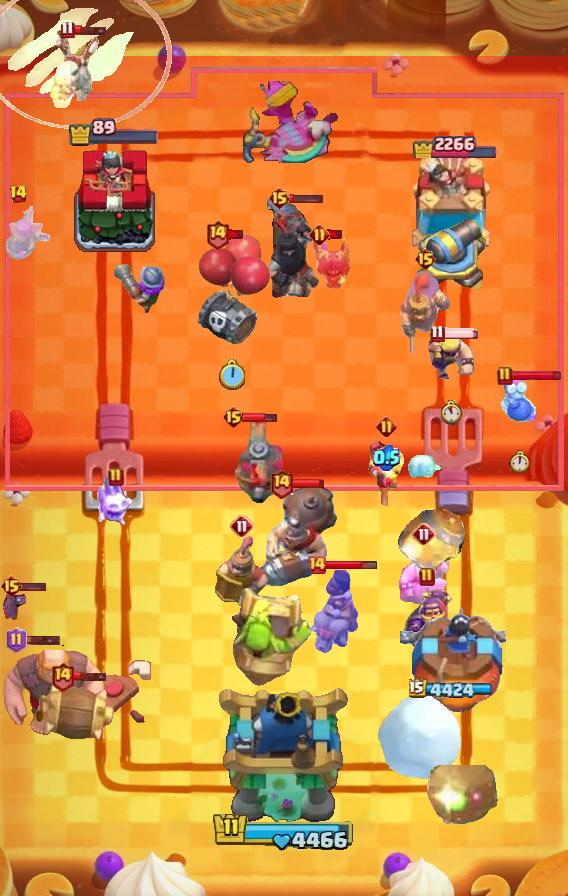arrows: (425, 329, 477, 379)
balloon: (0, 645, 108, 737)
barbarian-barrel: (2, 586, 30, 620)
bat: (401, 455, 443, 489)
bomb-tower: (113, 262, 169, 318)
bowler: (365, 440, 407, 510)
clock: (212, 811, 356, 853)
dark-prince: (217, 413, 283, 503)
dirt: (395, 498, 471, 578)
earthquake: (215, 534, 269, 606)
electro-spirit: (372, 445, 399, 472)
elite-barbarian: (303, 569, 359, 657)
elixir: (219, 360, 247, 392), (439, 399, 463, 424), (509, 450, 529, 474)
elixir-golem-big: (398, 267, 452, 377)
emote: (510, 370, 562, 383), (325, 560, 378, 571), (242, 412, 278, 425), (442, 327, 480, 339), (24, 634, 61, 646), (72, 24, 108, 36), (12, 580, 48, 592), (72, 670, 108, 682), (288, 192, 323, 203), (291, 479, 325, 490), (227, 229, 245, 240), (327, 229, 344, 240)
evolution-symbol: (0, 206, 52, 278)
firecracker-evolution: (403, 587, 453, 652)
goblin-giant: (397, 547, 451, 605)
golden-knight: (312, 233, 354, 293)
ice-golem: (499, 375, 539, 423)
ice-wizard: (0, 0, 172, 128)
inferno-dragon: (262, 194, 322, 300)
king-tower: (216, 684, 352, 826)
mini-pekka: (47, 29, 105, 101)
mirror: (96, 477, 136, 527)
queen-tower: (400, 603, 506, 731), (71, 144, 157, 255), (407, 156, 499, 256)
royal-recruit: (414, 212, 486, 296)
royal-recruit-evolution: (194, 232, 272, 348)
selected: (68, 117, 160, 146), (411, 129, 498, 158), (409, 679, 497, 701)
text: (206, 219, 231, 250), (270, 469, 295, 500), (50, 660, 75, 691), (414, 247, 438, 271), (230, 514, 254, 538), (412, 522, 436, 546), (5, 627, 27, 653), (269, 186, 292, 210), (223, 405, 246, 429), (1, 574, 24, 598), (309, 224, 330, 245), (375, 415, 396, 436), (8, 184, 28, 204), (307, 555, 327, 575), (497, 366, 513, 386), (108, 467, 124, 487), (419, 567, 435, 587), (60, 21, 75, 39), (431, 325, 446, 343)
the-log: (33, 680, 117, 742)
wall-breaker: (376, 693, 462, 780)
wizard: (252, 481, 340, 589)
x-bow: (230, 586, 314, 688), (416, 765, 502, 827)
